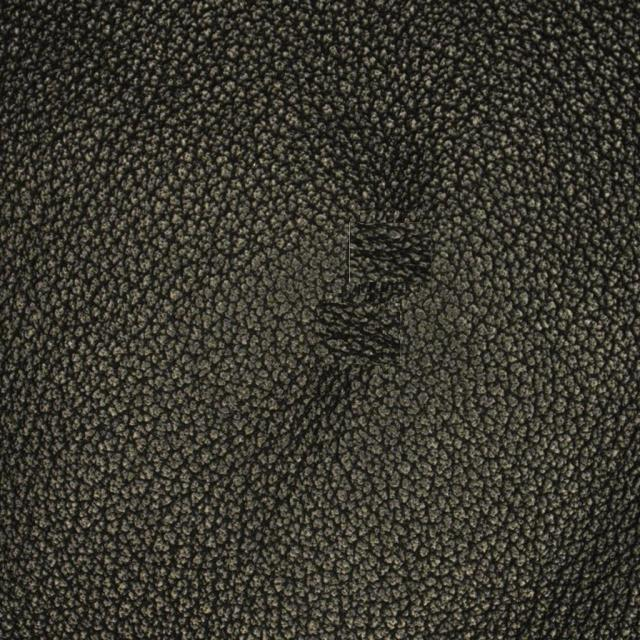Healed Injury: (294, 62, 466, 250), (279, 269, 438, 450)
